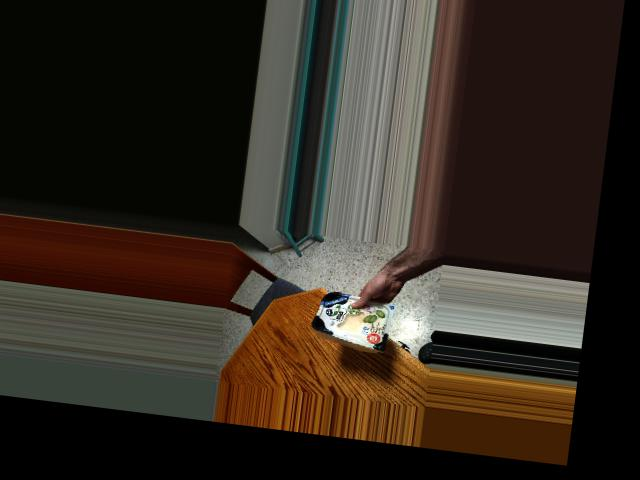cheese: (308, 285, 400, 344)
